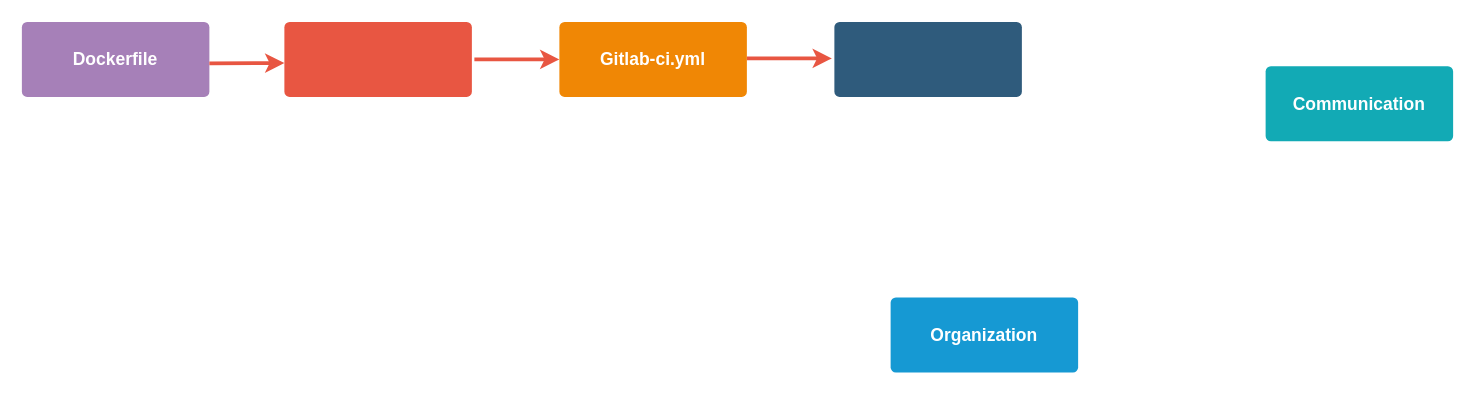
The diagram is 1474 pixels wide and 394 high, and some of its shapes have lost their labels. Here are the shapes that lost their labels. From the top down, the box of each, then its label:
(284, 21, 471, 96): Docker-Compose
(834, 21, 1021, 96): Gitlab-runner
